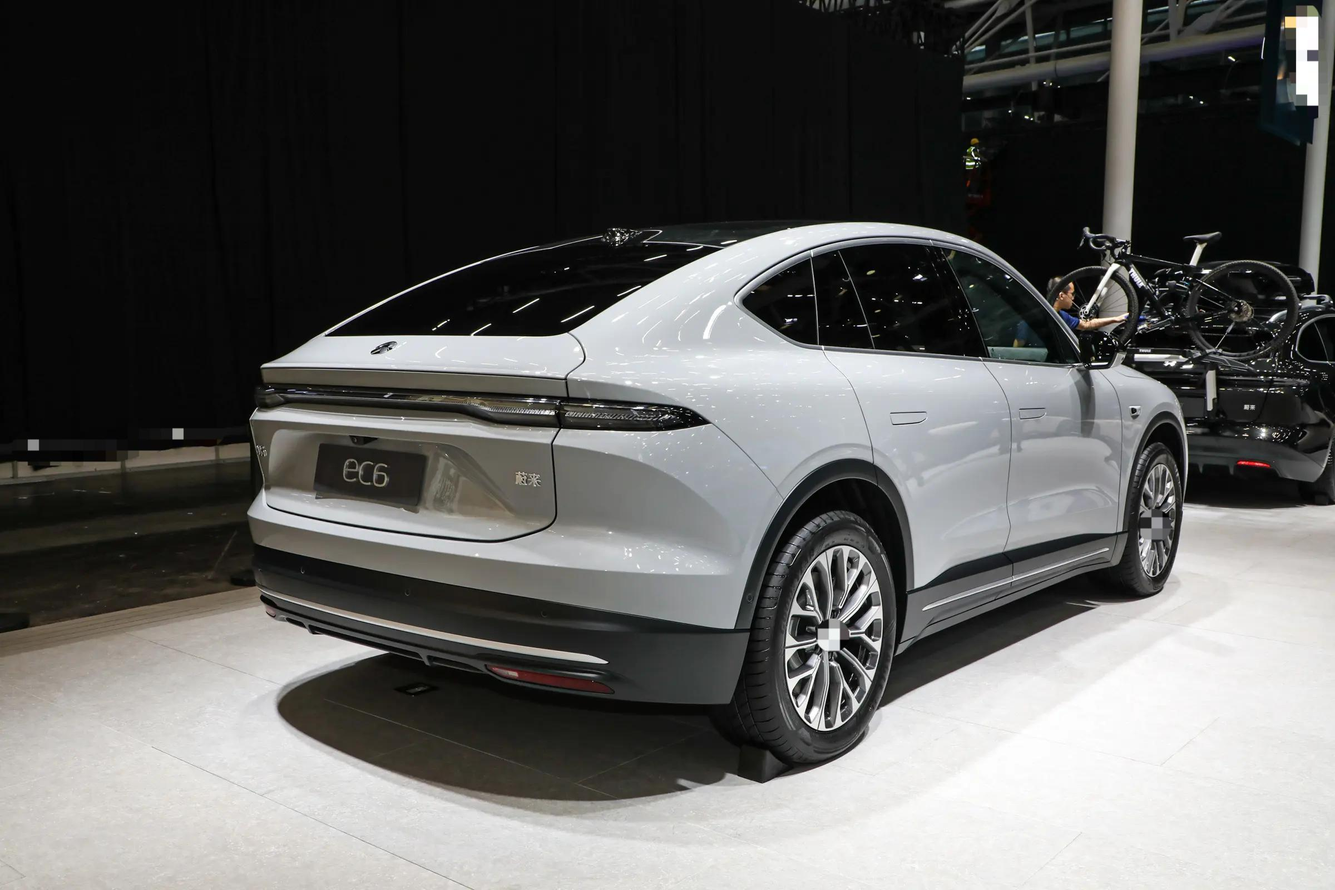NIO: (370, 339, 397, 355)
